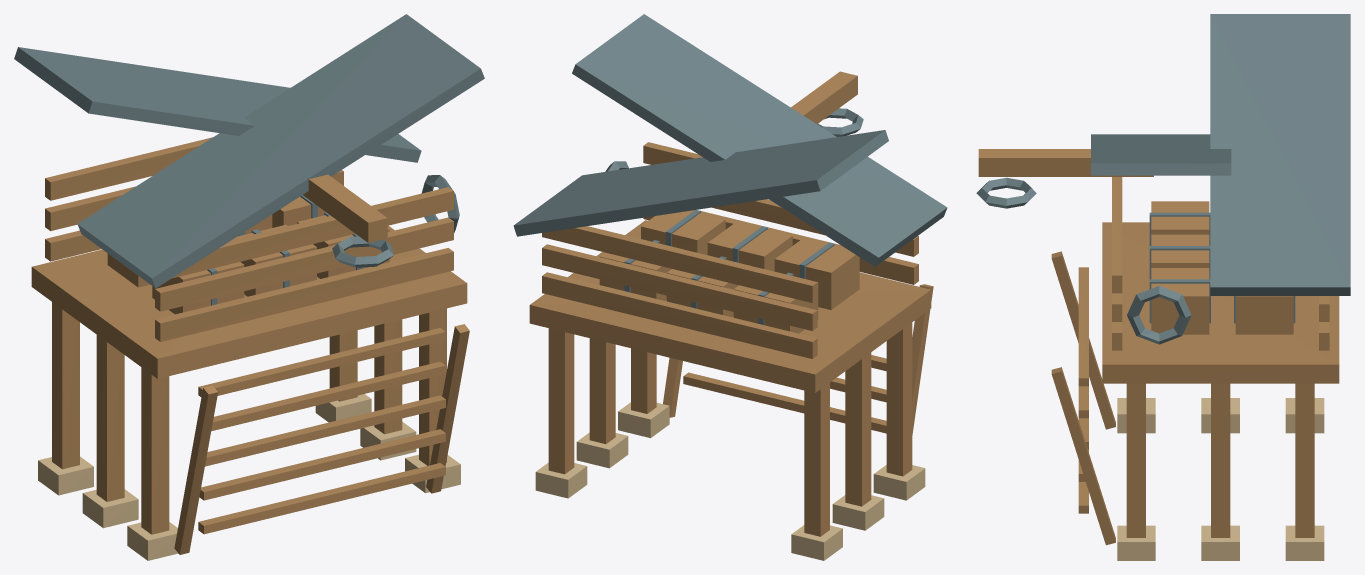
Rendered from Hayloft.glb.
3 renders of one model, left to right at view 1: azimuth 30°, elevation 25°; view 2: azimuth 150°, elevation 25°; view 3: azimuth 270°, elevation 25°, orthographic. The views are drawn at different scales.
Visible parts, largest first — view 1: wind-pump-static-hayloft-timber, wind-pump-static-hayloft-galvanized-roof, wind-pump-static-hayloft-stone-feet, wind-pump-static-hayloft-hay-bales, wind-pump-static-hayloft-hoist-iron; view 2: wind-pump-static-hayloft-timber, wind-pump-static-hayloft-galvanized-roof, wind-pump-static-hayloft-hay-bales, wind-pump-static-hayloft-stone-feet, wind-pump-static-hayloft-hoist-iron; view 3: wind-pump-static-hayloft-galvanized-roof, wind-pump-static-hayloft-timber, wind-pump-static-hayloft-hay-bales, wind-pump-static-hayloft-stone-feet, wind-pump-static-hayloft-hoist-iron.
Boxes of the visible parts, x1=… form: wind-pump-static-hayloft-timber: x1=31, y1=137, x2=469, y2=554; wind-pump-static-hayloft-galvanized-roof: x1=14, y1=14, x2=484, y2=288; wind-pump-static-hayloft-stone-feet: x1=38, y1=394, x2=460, y2=560; wind-pump-static-hayloft-hay-bales: x1=107, y1=197, x2=389, y2=314; wind-pump-static-hayloft-hoist-iron: x1=207, y1=175, x2=459, y2=305; wind-pump-static-hayloft-timber: x1=529, y1=71, x2=933, y2=536; wind-pump-static-hayloft-galvanized-roof: x1=513, y1=14, x2=947, y2=266; wind-pump-static-hayloft-hay-bales: x1=599, y1=211, x2=859, y2=333; wind-pump-static-hayloft-stone-feet: x1=535, y1=402, x2=925, y2=560; wind-pump-static-hayloft-hoist-iron: x1=605, y1=108, x2=863, y2=324; wind-pump-static-hayloft-galvanized-roof: x1=1091, y1=14, x2=1350, y2=295; wind-pump-static-hayloft-timber: x1=978, y1=149, x2=1339, y2=545; wind-pump-static-hayloft-hay-bales: x1=1151, y1=201, x2=1293, y2=334; wind-pump-static-hayloft-stone-feet: x1=1117, y1=398, x2=1324, y2=560; wind-pump-static-hayloft-hoist-iron: x1=976, y1=177, x2=1295, y2=344.
Bounding box in the file's own units: 2.06 × 2.52 × 2.13.
